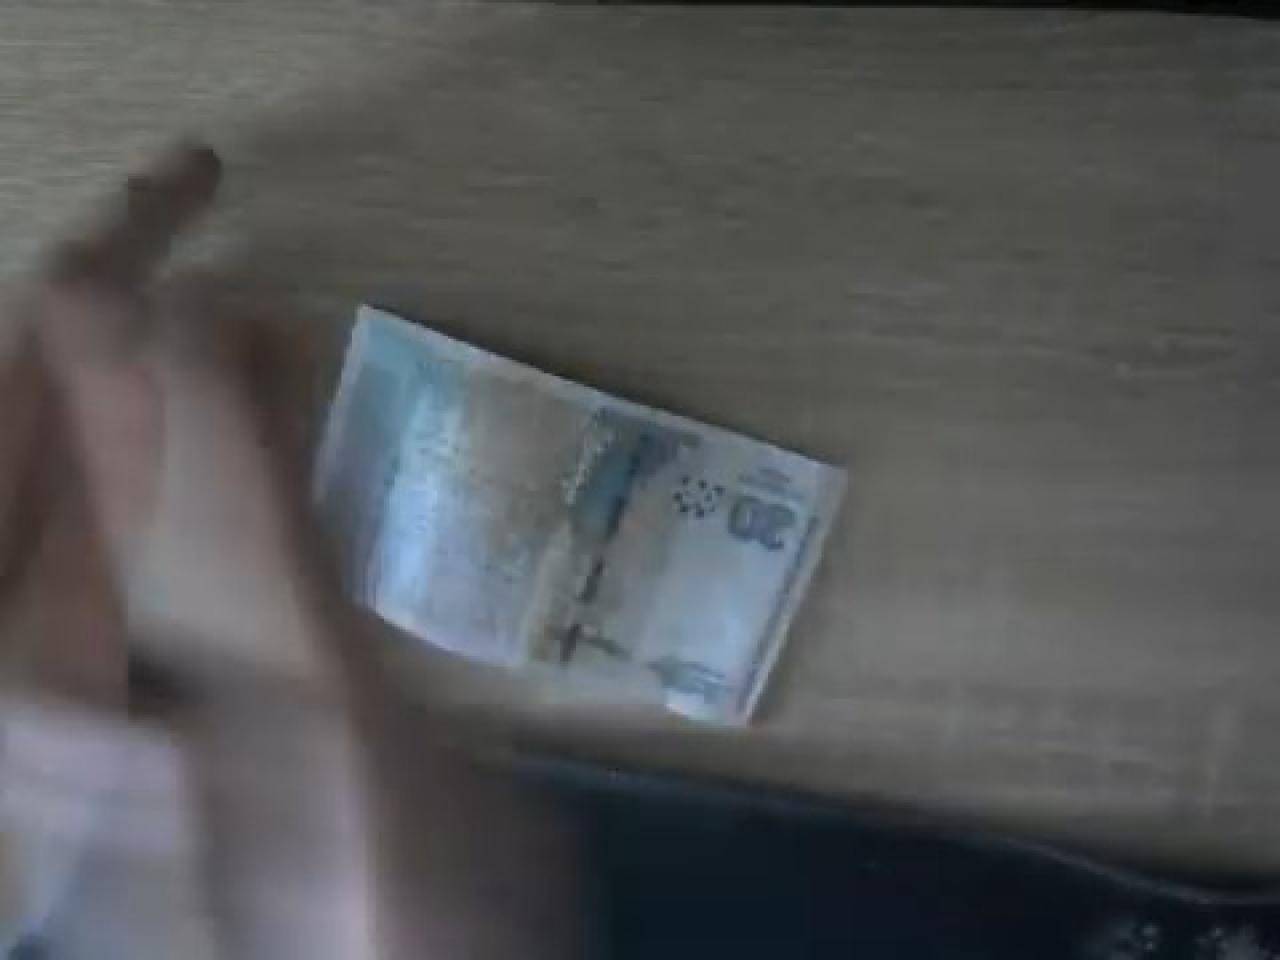20leva: (301, 301, 848, 723)
